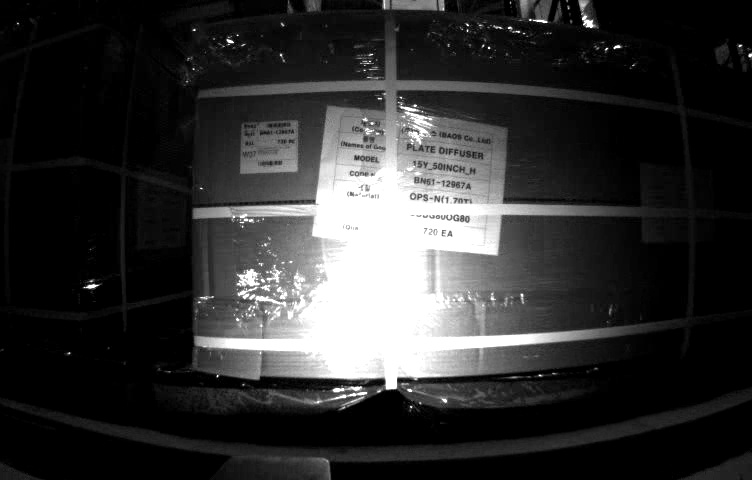True Barcode: (241, 123, 299, 171)
